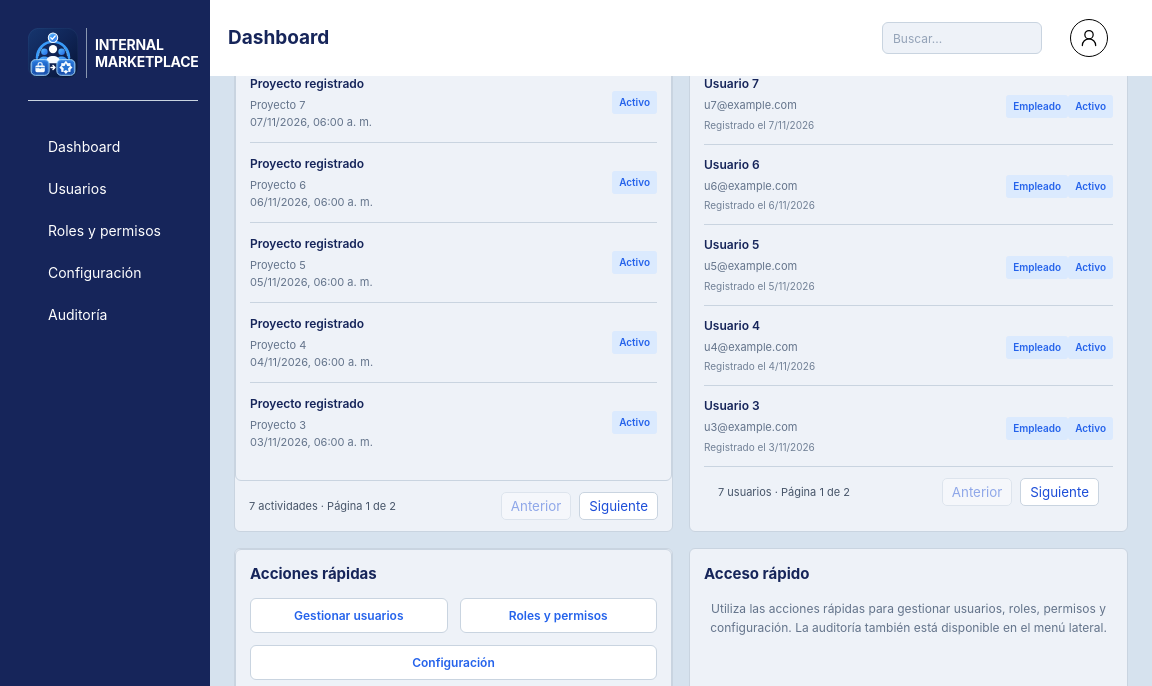
Test: Dashboard del administrador con información reciente › ordena registros reales, pagina actividades y usuarios y permite actualizar
The image size is (1152, 686).
(page scrolled)
Expected: the text "Usuario 7" is shown, 704,76 -> 759,91
Expected: the text "Usuario 1" is not shown
What coordinates should you click on to do the following:
click the button "Siguiente" in the row of "usuarios · Página"
I would click on:
 (1060, 492)
Its box is 1020,478 -> 1099,506.
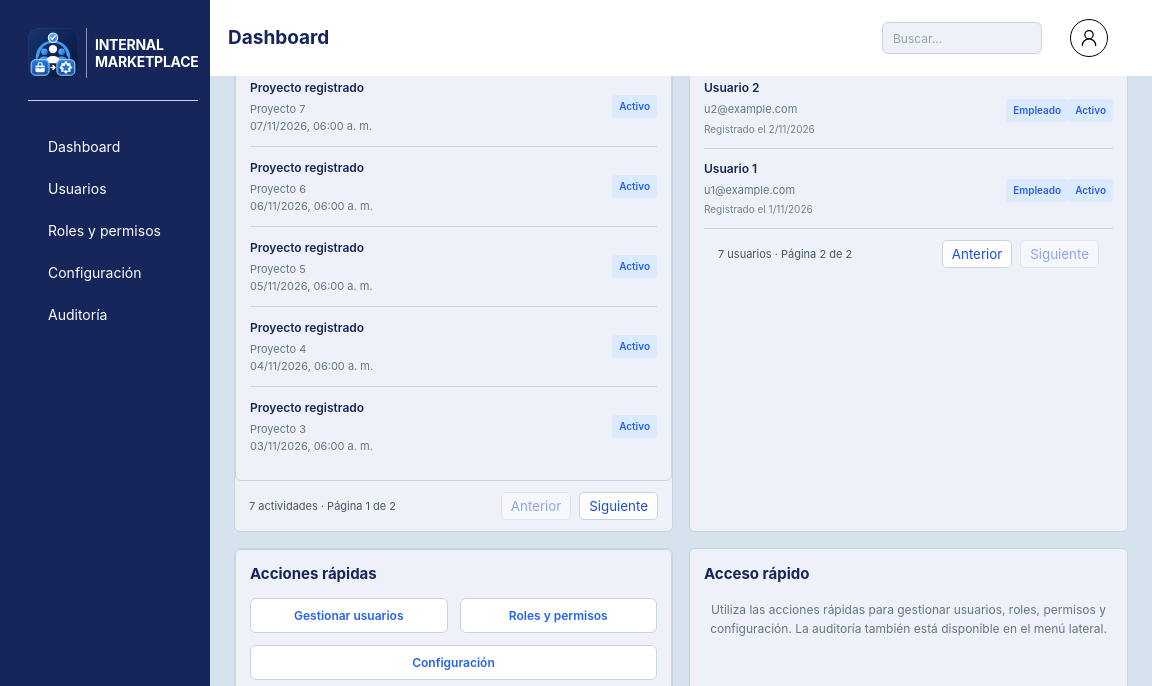
Result: the text "Usuario 1" is shown at 704,161 -> 757,176
What coordinates should you click on to do the following:
click the button "Siguiente" in the row of "actividades · Página"
I would click on:
 (619, 506)
Its box is 579,492 -> 658,520.
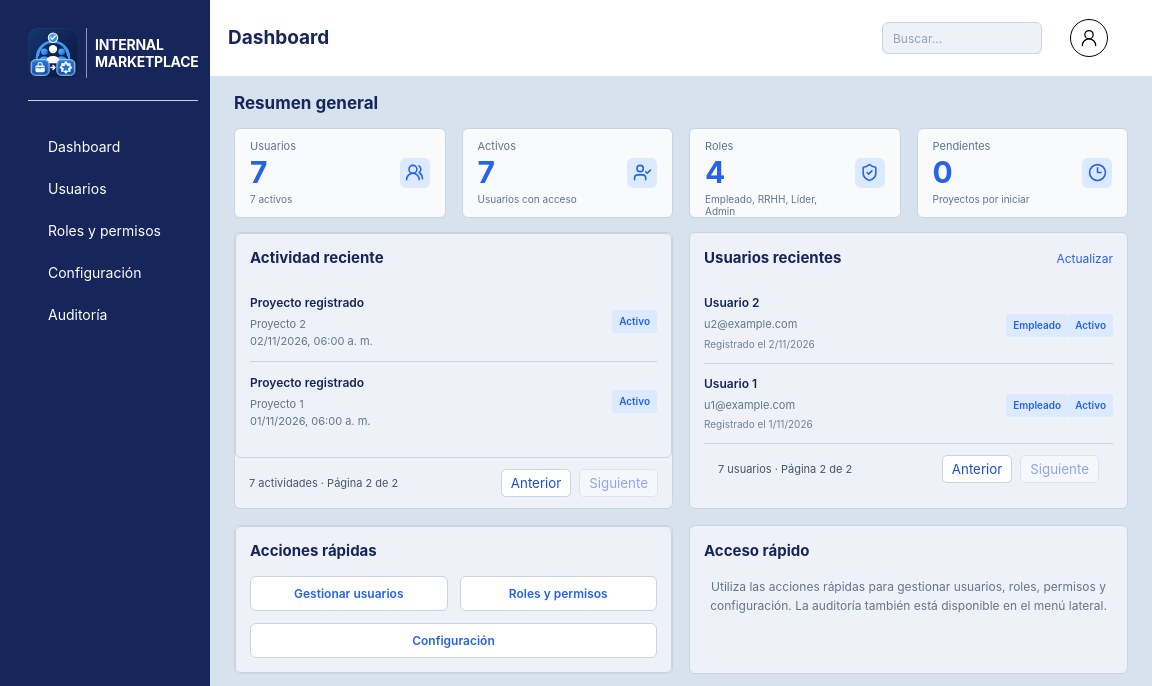
Result: the text "Proyecto 1" is shown at 250,397 -> 304,411
What coordinates should you click on to do the following:
click the button "Anterior" in the row of "usuarios · Página"
I would click on:
 (977, 469)
Its box is 942,455 -> 1012,483.
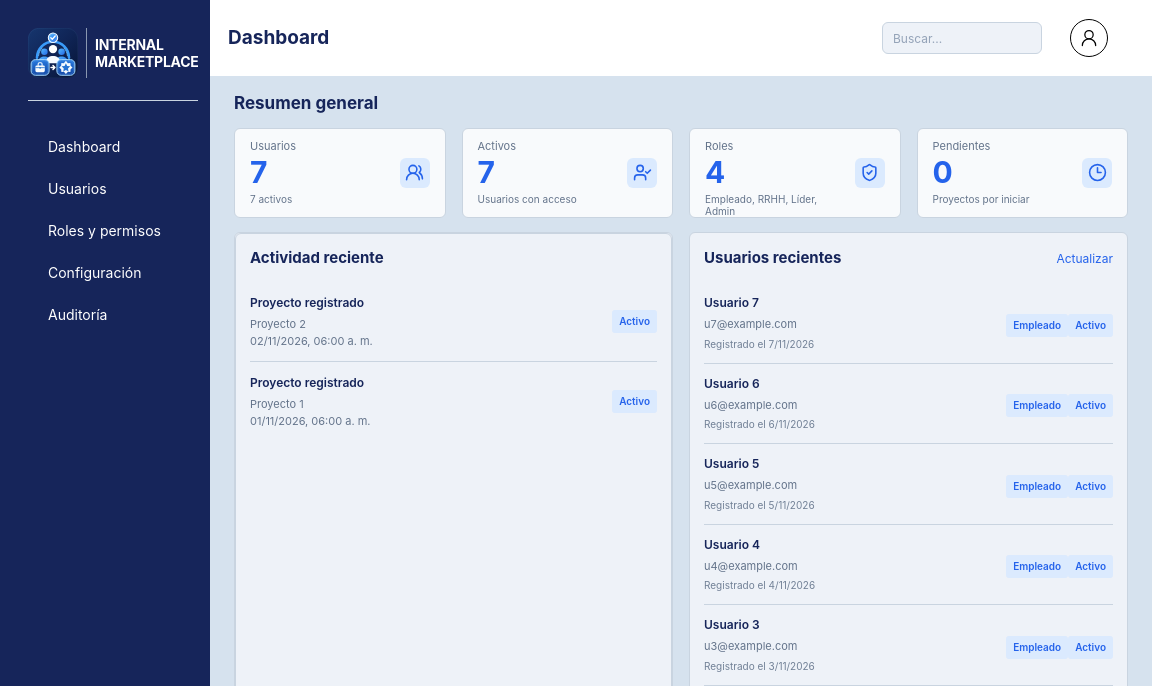
What coordinates should you click on to do the following:
click the button "Actualizar"
I would click on:
 (1085, 258)
Its box is 1056,250 -> 1113,266.
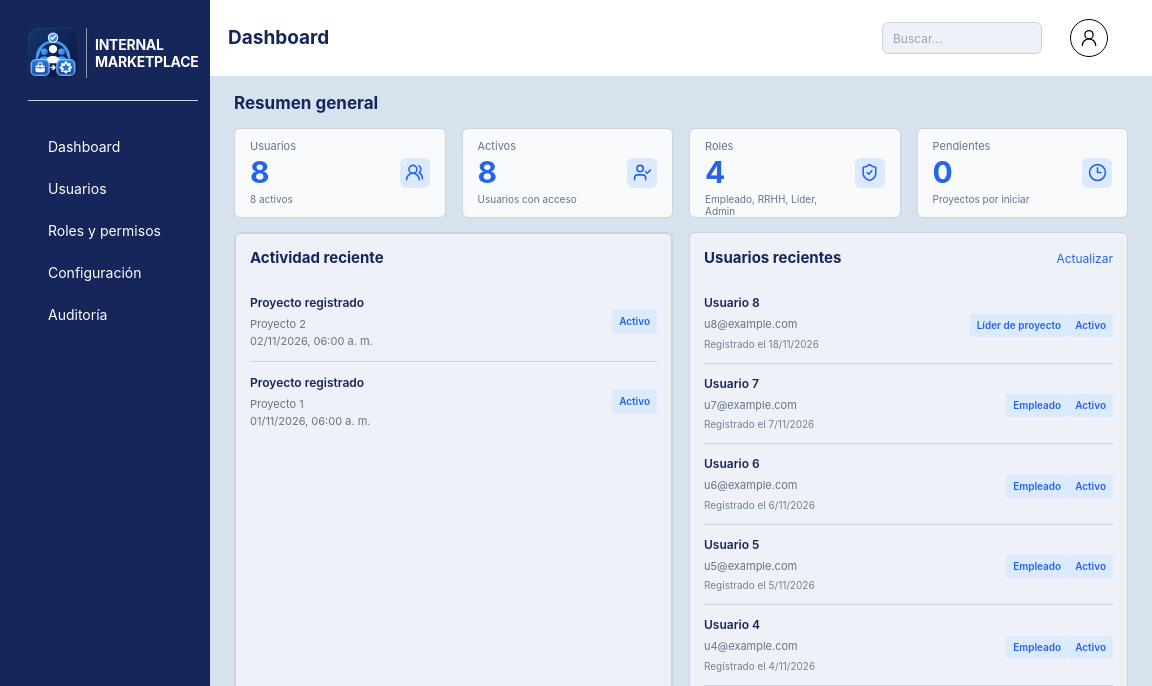
Result: the text "Usuario 8" is shown at 704,295 -> 760,310
Result: the text "Líder de proyecto" is shown at 970,314 -> 1068,336
